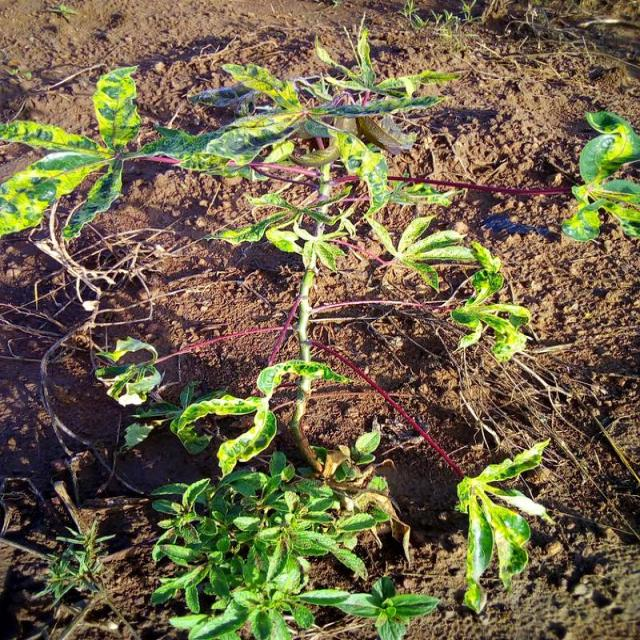cassava leaf: (454, 436, 554, 614), (91, 64, 141, 150)
